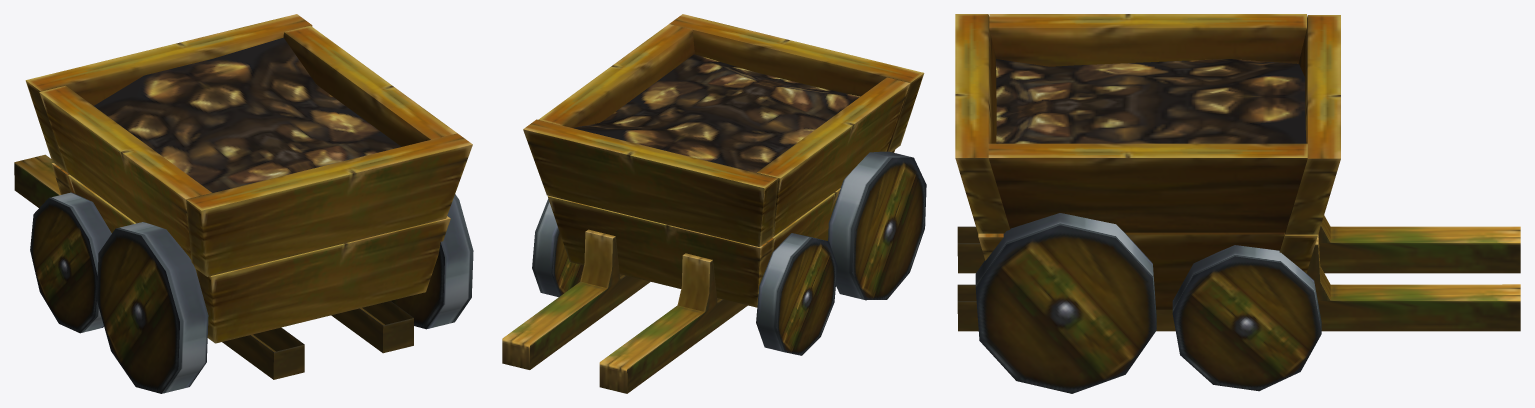
File: Mine_tuiche.FBX
3 renders of one model, left to right at view 1: azimuth 30°, elevation 25°; view 2: azimuth 150°, elevation 25°; view 3: azimuth 270°, elevation 25°, orthographic. The views are drawn at different scales.
Visible parts, largest first — view 1: tuiche; view 2: tuiche; view 3: tuiche.
Part boxes in pixels (x1=…): tuiche: x1=14, y1=14, x2=473, y2=393; tuiche: x1=502, y1=14, x2=926, y2=393; tuiche: x1=955, y1=14, x2=1520, y2=393.
Bounding box in the file's own units: 97.37 × 68.13 × 150.
